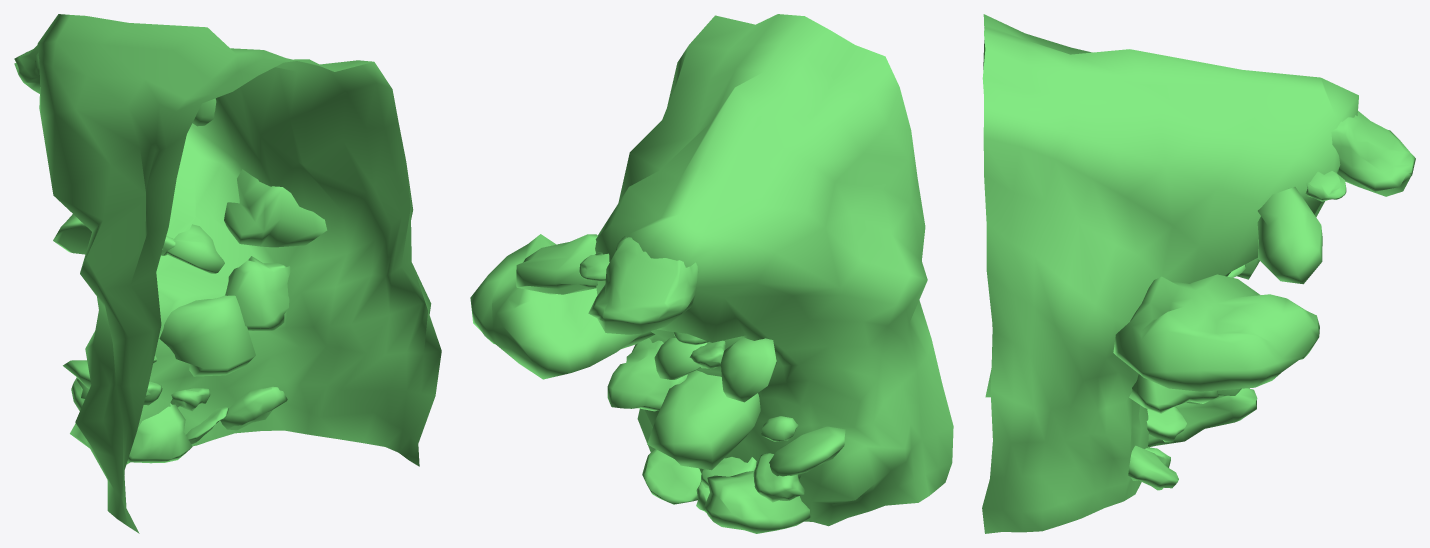
File: ExperimentalWall02_meshes.fbx
The picture shows the model from 3 angles, left to right: view 1: azimuth 30°, elevation 25°; view 2: azimuth 150°, elevation 25°; view 3: azimuth 270°, elevation 25°; orthographic projection.
Parts seen in each view (by area): view 1: ExperimentalWall02_base_mesh, ExperimentalWall02_rock03_mesh, ExperimentalWall02_rock013_mesh, ExperimentalWall02_rock011_mesh, ExperimentalWall02_rock09_mesh, ExperimentalWall02_rock01_mesh, ExperimentalWall02_rock08_mesh, ExperimentalWall02_rock07_mesh, ExperimentalWall02_rock017_mesh, ExperimentalWall02_rock02_mesh, ExperimentalWall02_rock010_mesh; view 2: ExperimentalWall02_base_mesh, ExperimentalWall02_rock013_mesh, ExperimentalWall02_rock03_mesh, ExperimentalWall02_rock017_mesh, ExperimentalWall02_rock09_mesh, ExperimentalWall02_rock012_mesh, ExperimentalWall02_rock011_mesh, ExperimentalWall02_rock07_mesh, ExperimentalWall02_rock05_mesh, ExperimentalWall02_rock01_mesh, ExperimentalWall02_rock04_mesh, ExperimentalWall02_rock08_mesh (+4 smaller); view 3: ExperimentalWall02_base_mesh, ExperimentalWall02_rock013_mesh, ExperimentalWall02_rock012_mesh, ExperimentalWall02_rock017_mesh, ExperimentalWall02_rock09_mesh, ExperimentalWall02_rock011_mesh, ExperimentalWall02_rock01_mesh, ExperimentalWall02_rock02_mesh, ExperimentalWall02_rock016_mesh.
Boxes of the visible parts, x1,y1,x2,y2 form: ExperimentalWall02_base_mesh: [37, 14, 441, 533]; ExperimentalWall02_rock03_mesh: [159, 295, 255, 376]; ExperimentalWall02_rock013_mesh: [224, 169, 327, 247]; ExperimentalWall02_rock011_mesh: [225, 256, 290, 330]; ExperimentalWall02_rock09_mesh: [71, 378, 192, 463]; ExperimentalWall02_rock01_mesh: [220, 386, 287, 430]; ExperimentalWall02_rock08_mesh: [167, 224, 224, 273]; ExperimentalWall02_rock07_mesh: [53, 214, 91, 254]; ExperimentalWall02_rock017_mesh: [14, 45, 40, 93]; ExperimentalWall02_rock02_mesh: [170, 388, 210, 411]; ExperimentalWall02_rock010_mesh: [186, 407, 228, 444]; ExperimentalWall02_base_mesh: [595, 14, 953, 526]; ExperimentalWall02_rock013_mesh: [470, 234, 655, 379]; ExperimentalWall02_rock03_mesh: [647, 370, 760, 470]; ExperimentalWall02_rock017_mesh: [588, 236, 698, 334]; ExperimentalWall02_rock09_mesh: [704, 471, 810, 533]; ExperimentalWall02_rock012_mesh: [516, 234, 597, 294]; ExperimentalWall02_rock011_mesh: [607, 338, 687, 411]; ExperimentalWall02_rock07_mesh: [721, 337, 776, 402]; ExperimentalWall02_rock05_mesh: [769, 426, 845, 476]; ExperimentalWall02_rock01_mesh: [642, 449, 701, 504]; ExperimentalWall02_rock04_mesh: [753, 453, 804, 502]; ExperimentalWall02_rock08_mesh: [654, 338, 707, 379]; ExperimentalWall02_base_mesh: [982, 14, 1358, 533]; ExperimentalWall02_rock013_mesh: [1113, 274, 1319, 391]; ExperimentalWall02_rock012_mesh: [1257, 187, 1322, 284]; ExperimentalWall02_rock017_mesh: [1331, 111, 1415, 196]; ExperimentalWall02_rock09_mesh: [1148, 388, 1257, 446]; ExperimentalWall02_rock011_mesh: [1129, 374, 1218, 413]; ExperimentalWall02_rock01_mesh: [1128, 445, 1178, 490]; ExperimentalWall02_rock02_mesh: [1146, 406, 1186, 442]; ExperimentalWall02_rock016_mesh: [1305, 171, 1346, 201].
Bounding box in the file's own units: 16.18 × 18.58 × 16.54.
